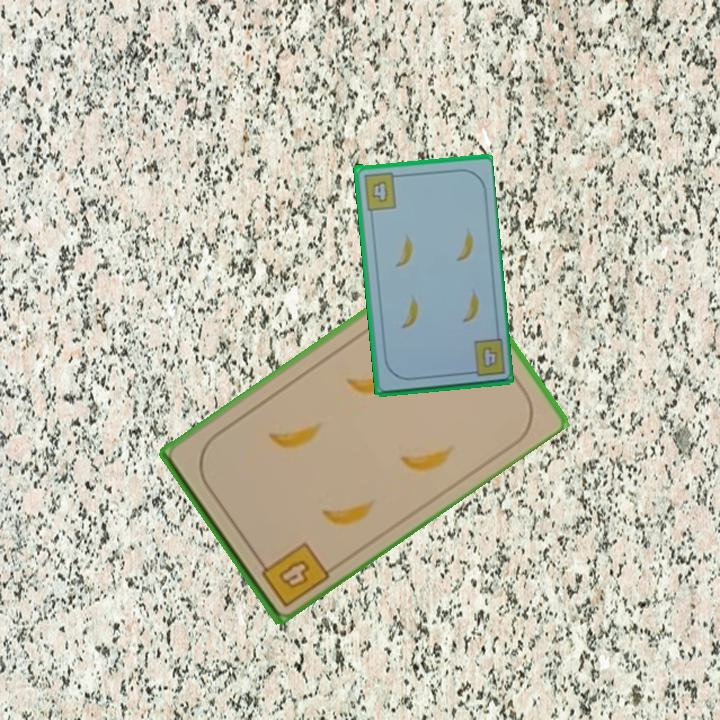4b: (252, 538, 332, 610), (463, 335, 508, 380), (360, 168, 403, 213)
